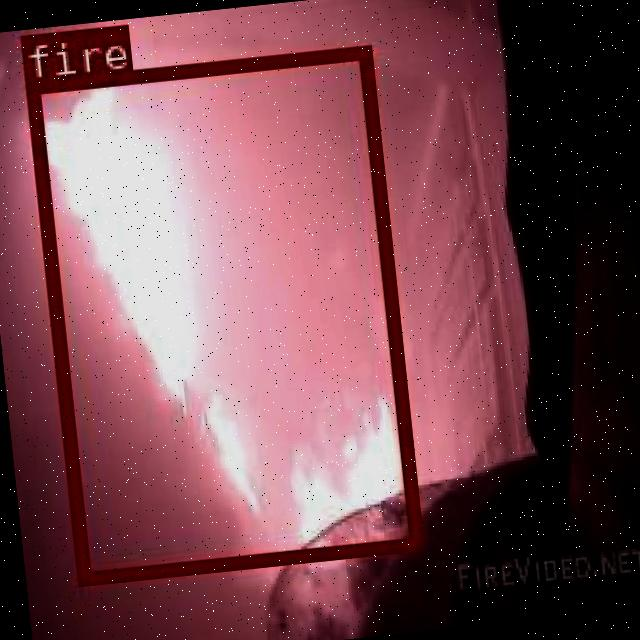fire: (23, 43, 418, 582)
